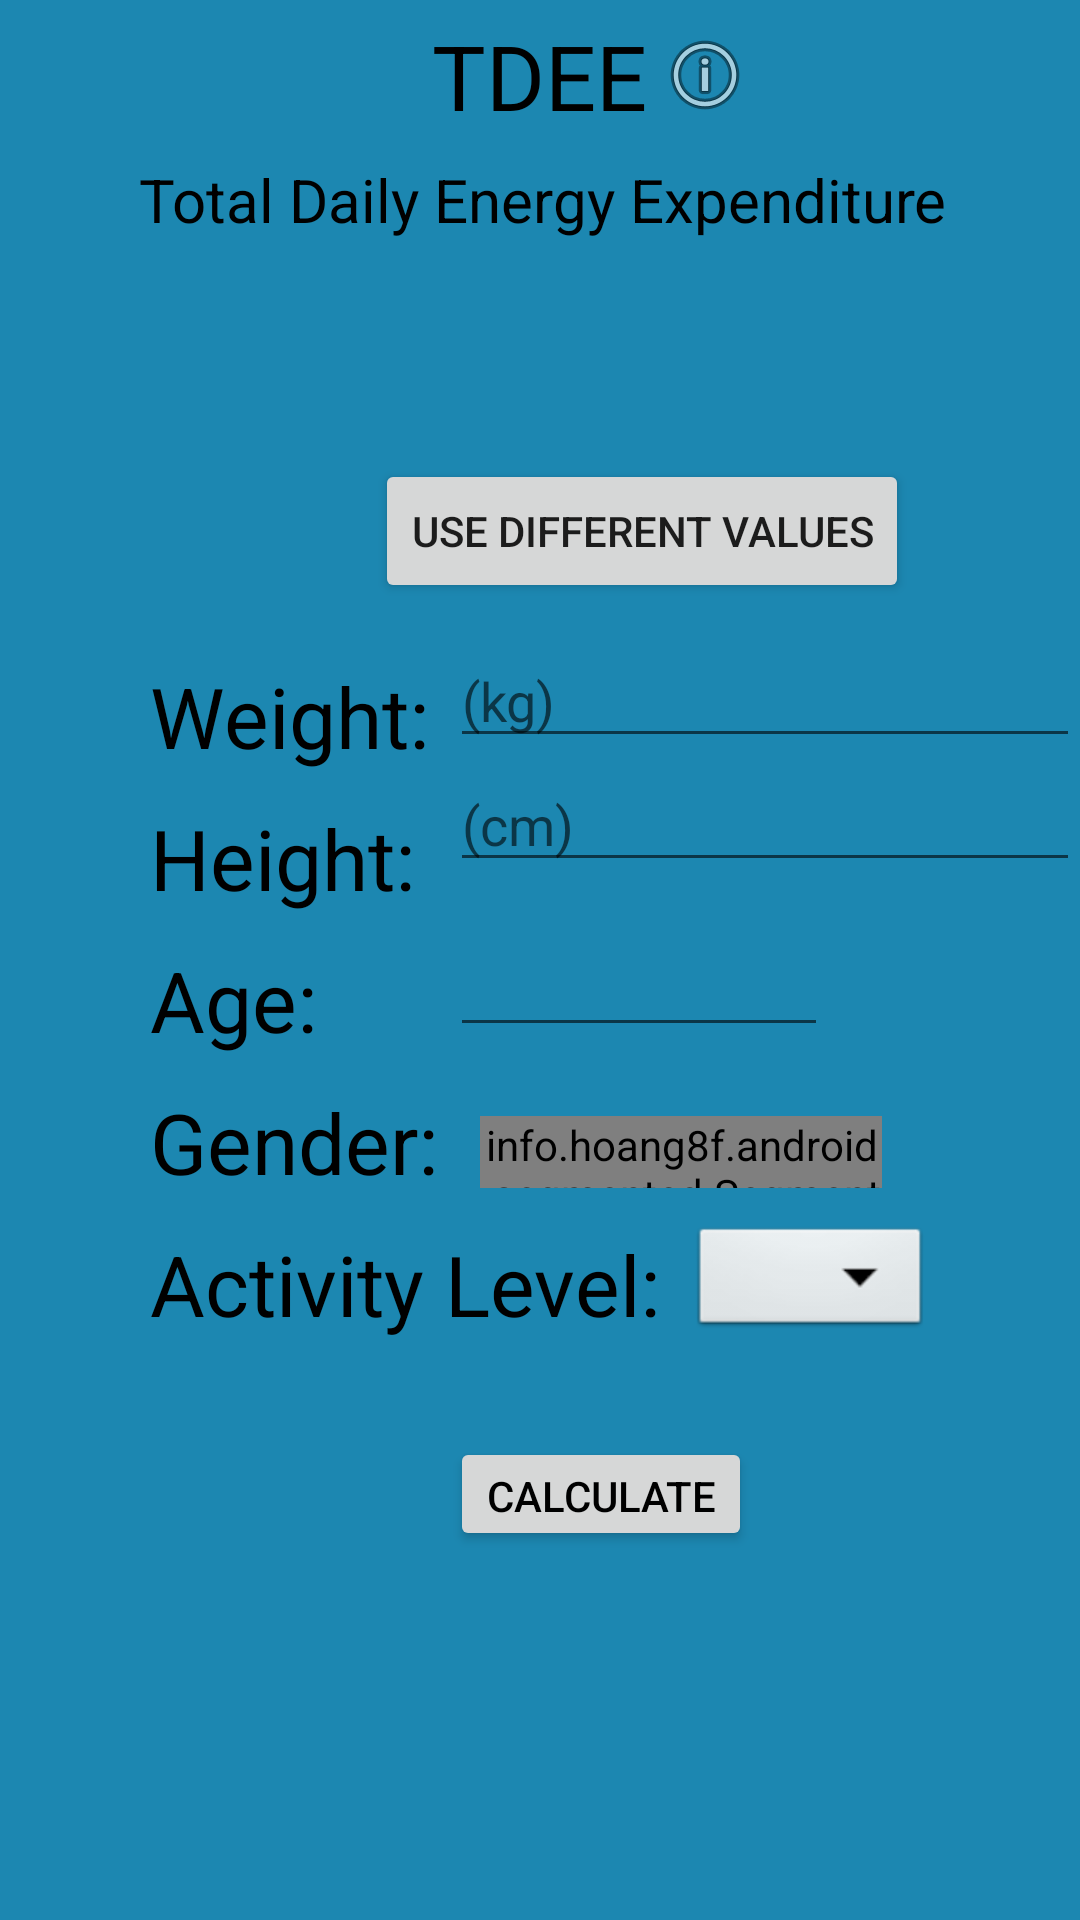

Where icons sit on this 1080×1920 app screen, as [x1,y1,x2,y2]:
info details: [671,41,739,109]
